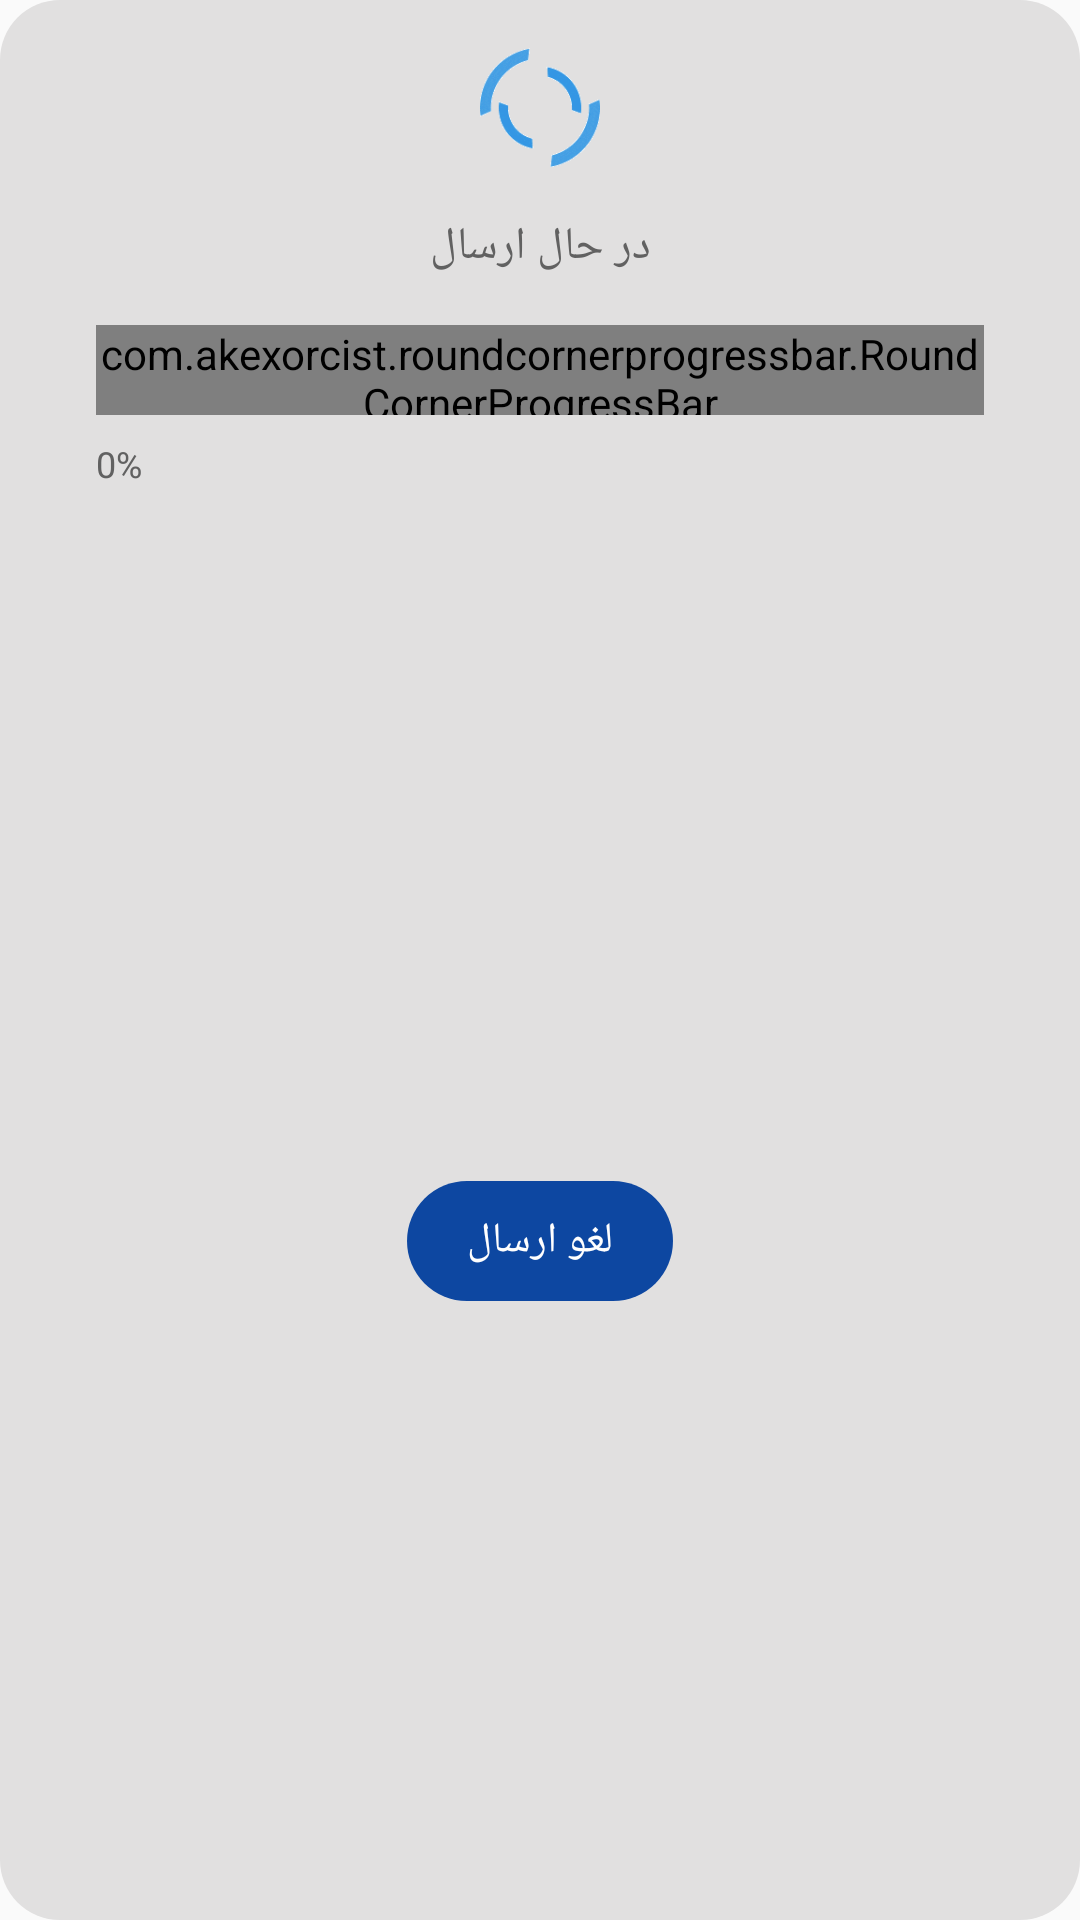

Screen size 1080px×1920px. Icon name, then its center in pixels as [x,y]:
loading processmaker: [540,108]
